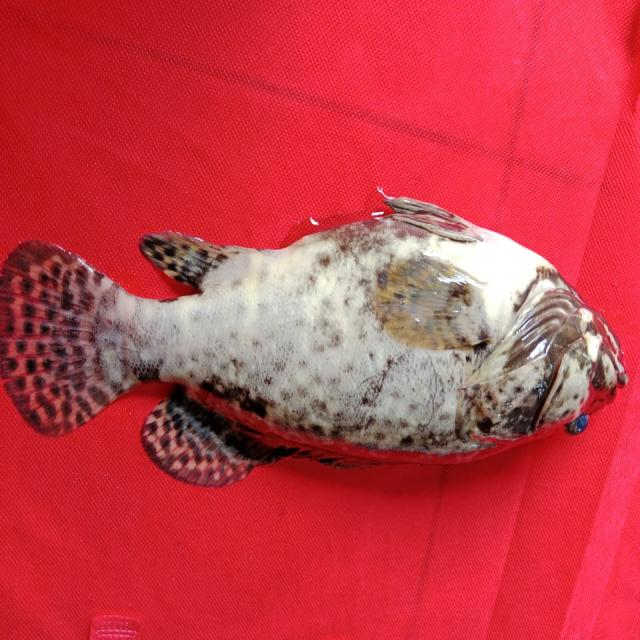ikan: (6, 172, 628, 499)
